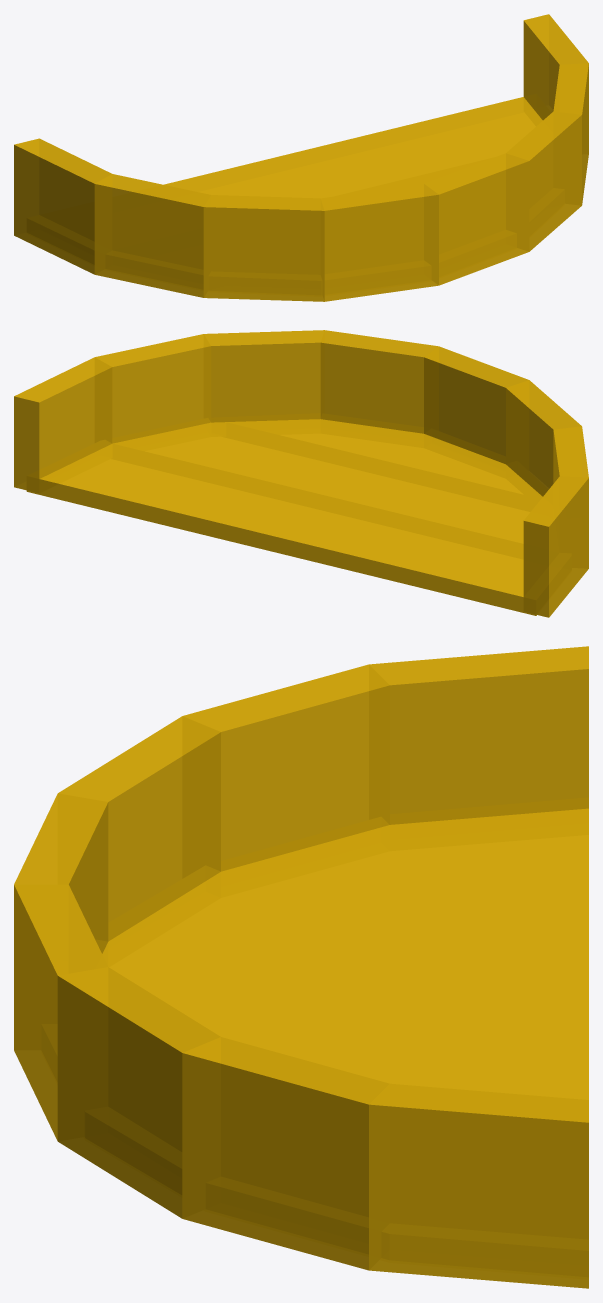
Rendered from SM_Bld_Balcony_Manor_02_Collision.fbx.
The picture shows the model from 3 angles, top to bottom: view 1: azimuth 30°, elevation 25°; view 2: azimuth 150°, elevation 25°; view 3: azimuth 270°, elevation 25°; orthographic projection. The views are drawn at different scales.
Parts seen in each view (by area): view 1: SM_Bld_Balcony_Manor_02_Collision; view 2: SM_Bld_Balcony_Manor_02_Collision; view 3: SM_Bld_Balcony_Manor_02_Collision.
Part boxes in pixels (left/top/right/bottom): SM_Bld_Balcony_Manor_02_Collision: left=14, top=14, right=588, bottom=301; SM_Bld_Balcony_Manor_02_Collision: left=14, top=330, right=588, bottom=617; SM_Bld_Balcony_Manor_02_Collision: left=14, top=646, right=588, bottom=1288.
Size of the model in its own units: 511 by 84.24 by 261.
